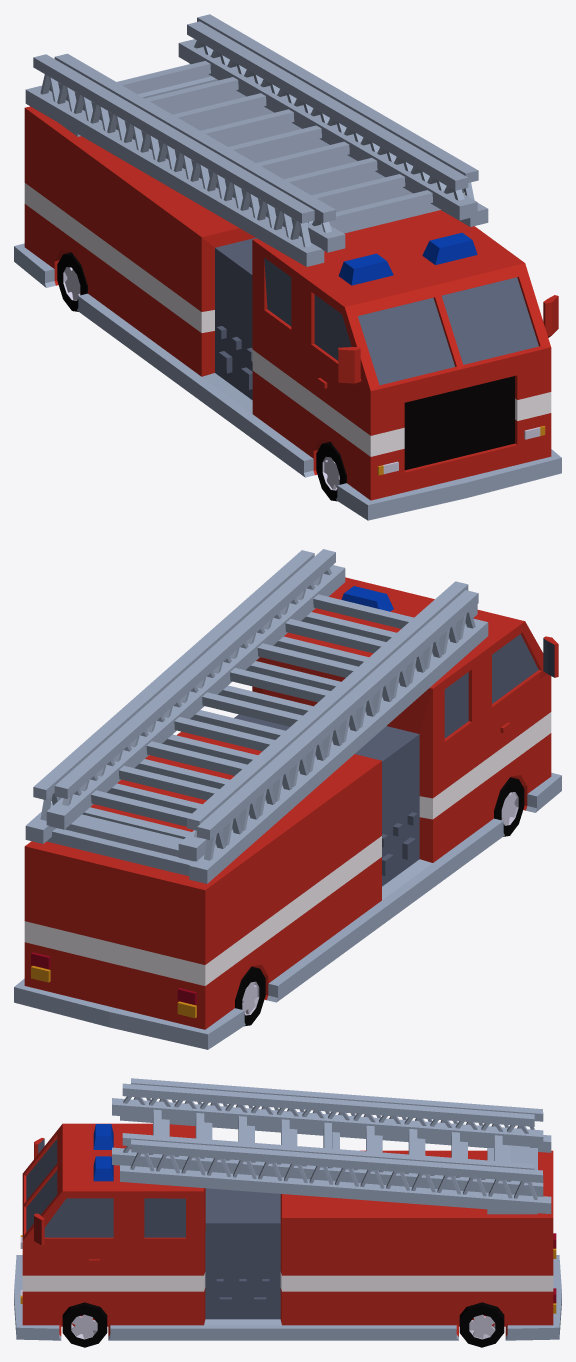
File: FireTruck.gltf
The picture shows the model from 3 angles, top to bottom: view 1: azimuth 30°, elevation 25°; view 2: azimuth 150°, elevation 25°; view 3: azimuth 270°, elevation 25°; orthographic projection. The views are drawn at different scales.
Visible parts, largest first — view 1: Firetruck, Firetruck wheel front right, Firetruck wheel rear right; view 2: Firetruck, Firetruck wheel rear right, Firetruck wheel front right; view 3: Firetruck, Firetruck wheel front left, Firetruck wheel rear left.
Part boxes in pixels (bbox=[...]): Firetruck: bbox=[14, 14, 561, 520]; Firetruck wheel front right: bbox=[316, 441, 346, 501]; Firetruck wheel rear right: bbox=[57, 252, 87, 311]; Firetruck: bbox=[14, 549, 561, 1049]; Firetruck wheel rear right: bbox=[235, 966, 265, 1026]; Firetruck wheel front right: bbox=[494, 777, 524, 836]; Firetruck: bbox=[14, 1078, 561, 1340]; Firetruck wheel front left: bbox=[62, 1302, 107, 1347]; Firetruck wheel rear left: bbox=[459, 1302, 504, 1347].
Size of the model in its own units: 3.41 by 3.93 by 9.6.
